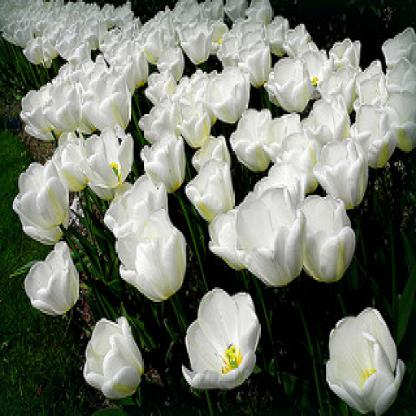TULIP: (5, 7, 409, 404)
